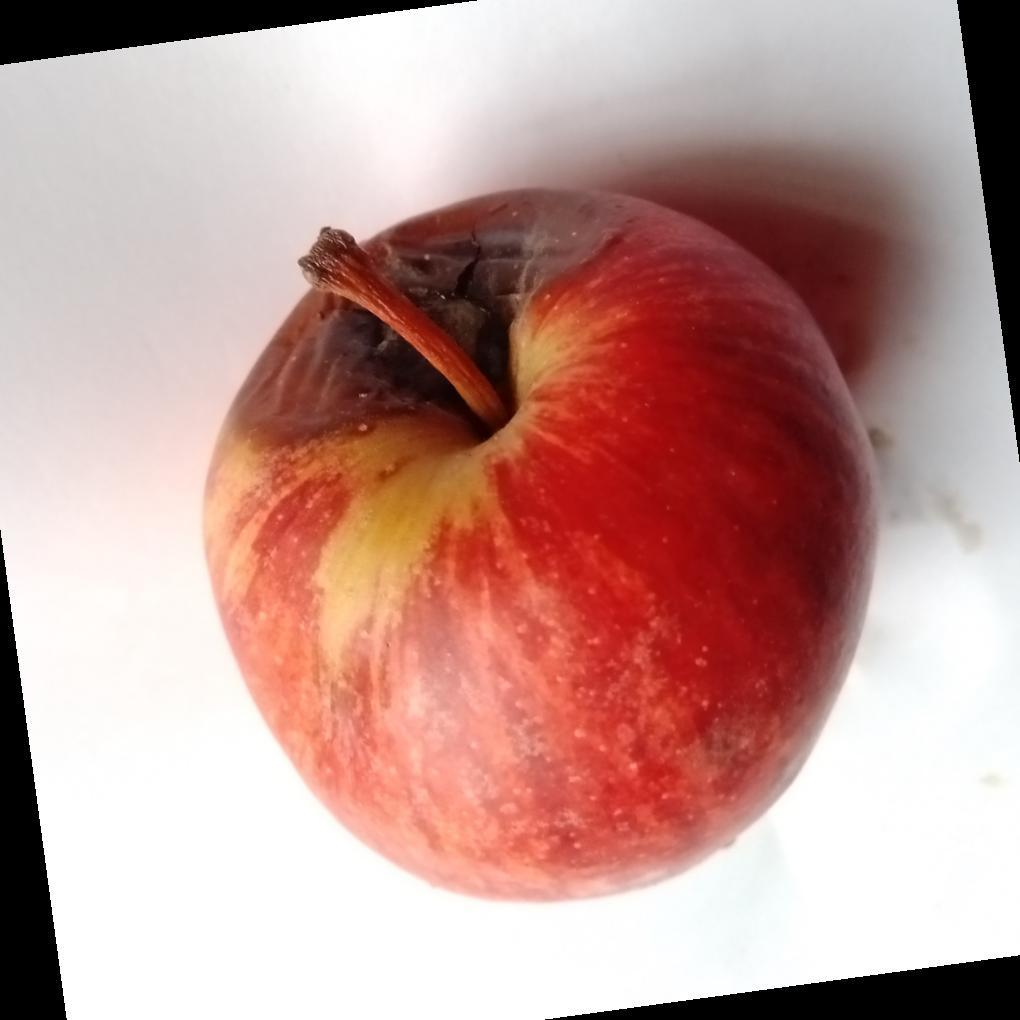FreshOrange: (199, 188, 882, 909)
